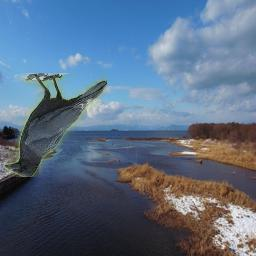Crow: (5, 73, 107, 177)
